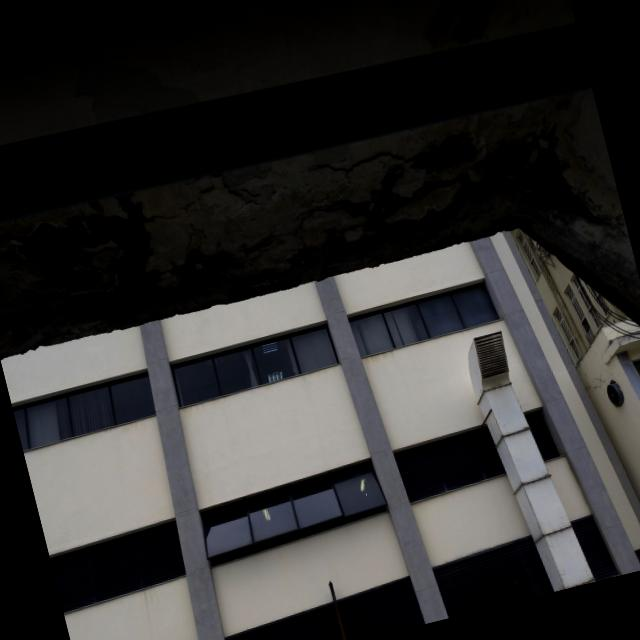gas: (0, 0, 592, 244)
